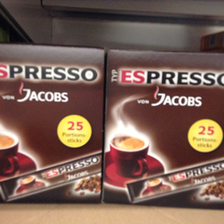coffee: (104, 49, 223, 209), (1, 42, 102, 203)
